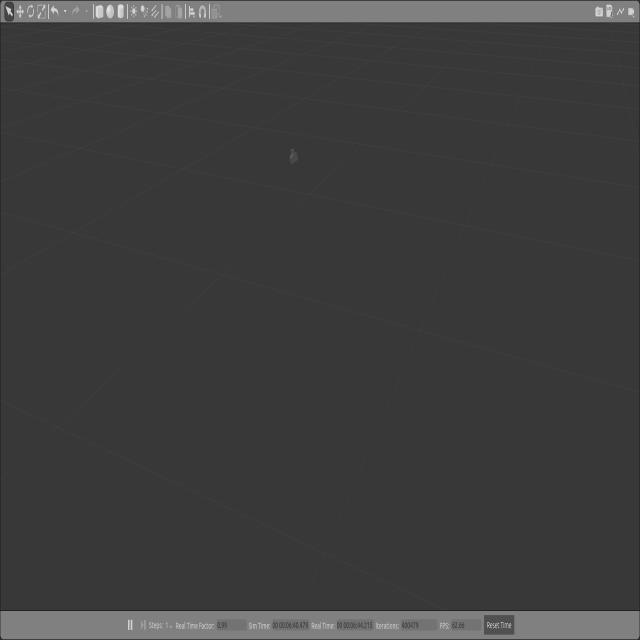block5: (290, 148, 298, 164)
